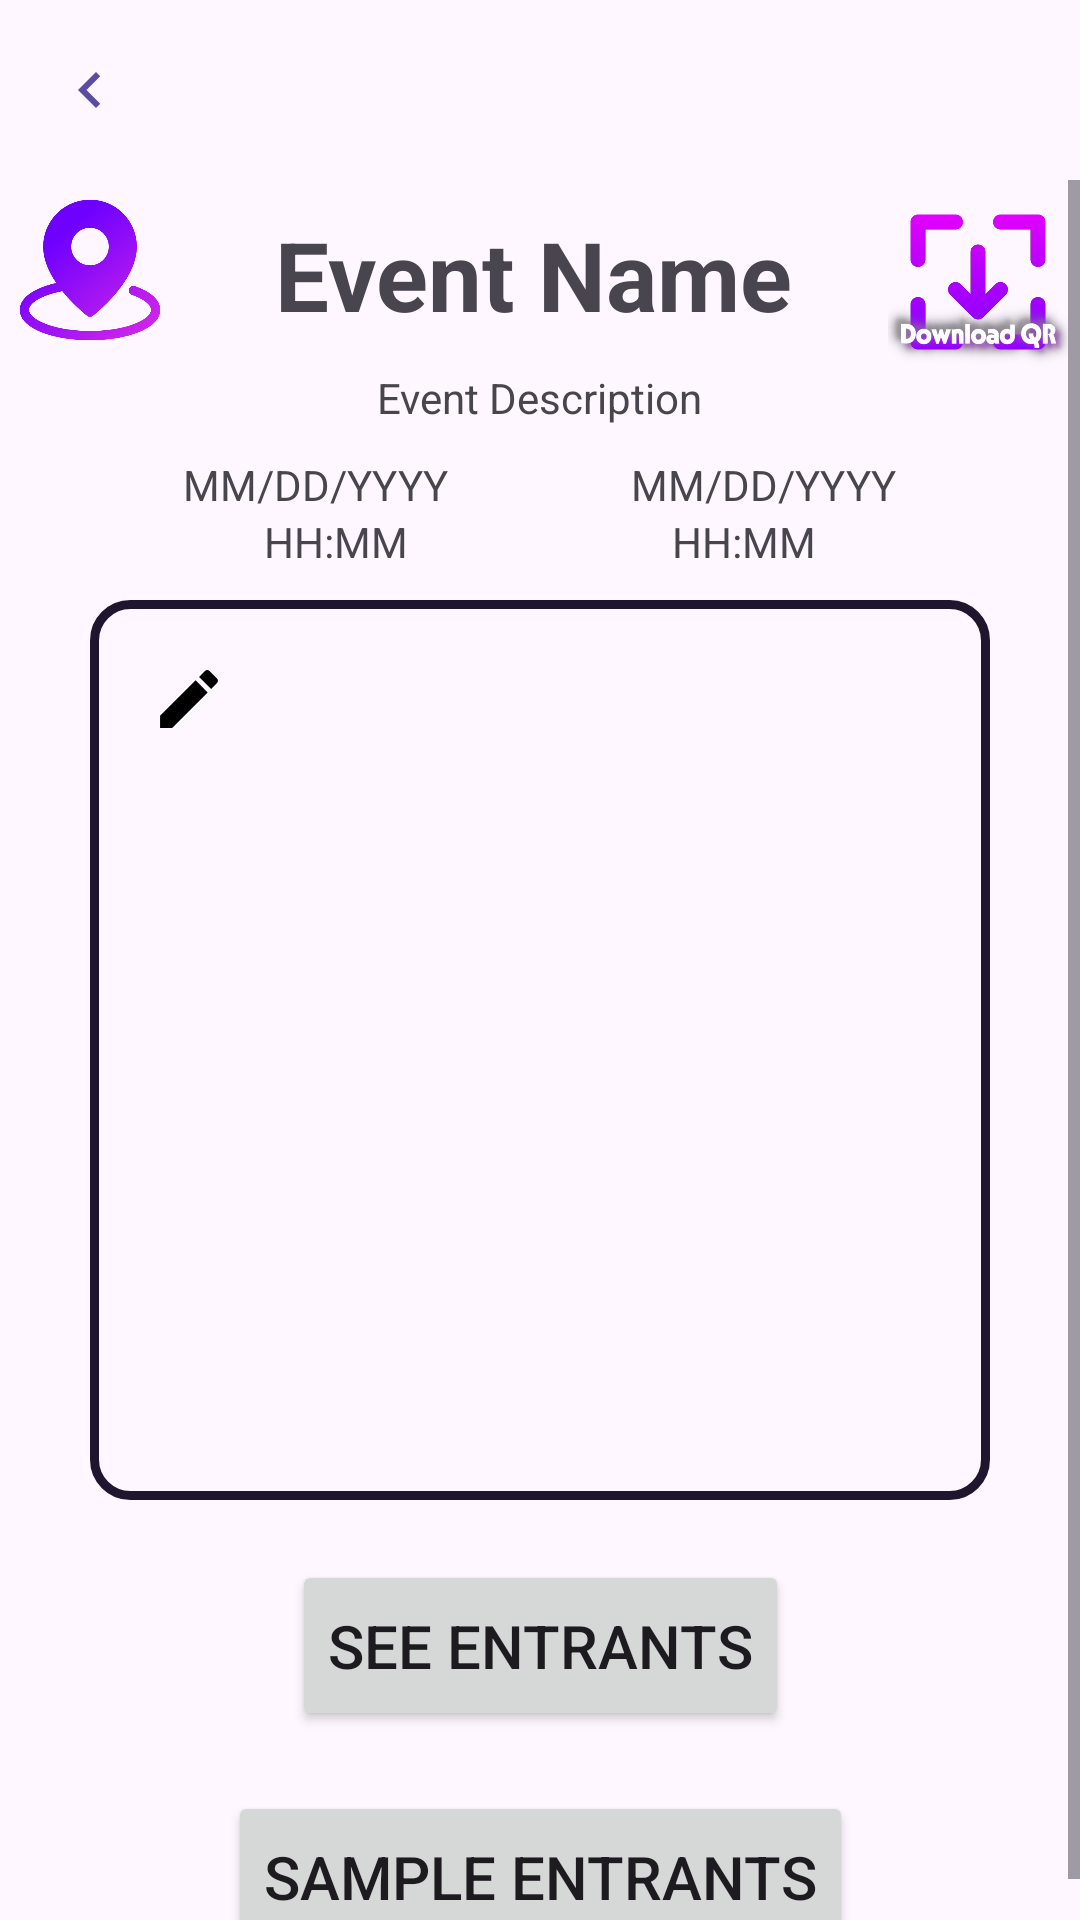

Icon bounding boxes for this 1080*1920 phone screenshot, format (x1, y1, x2, y2):
Edit button: (160, 670, 218, 728)
Go Back: (78, 72, 100, 108)
Map Icon: (20, 200, 160, 340)
